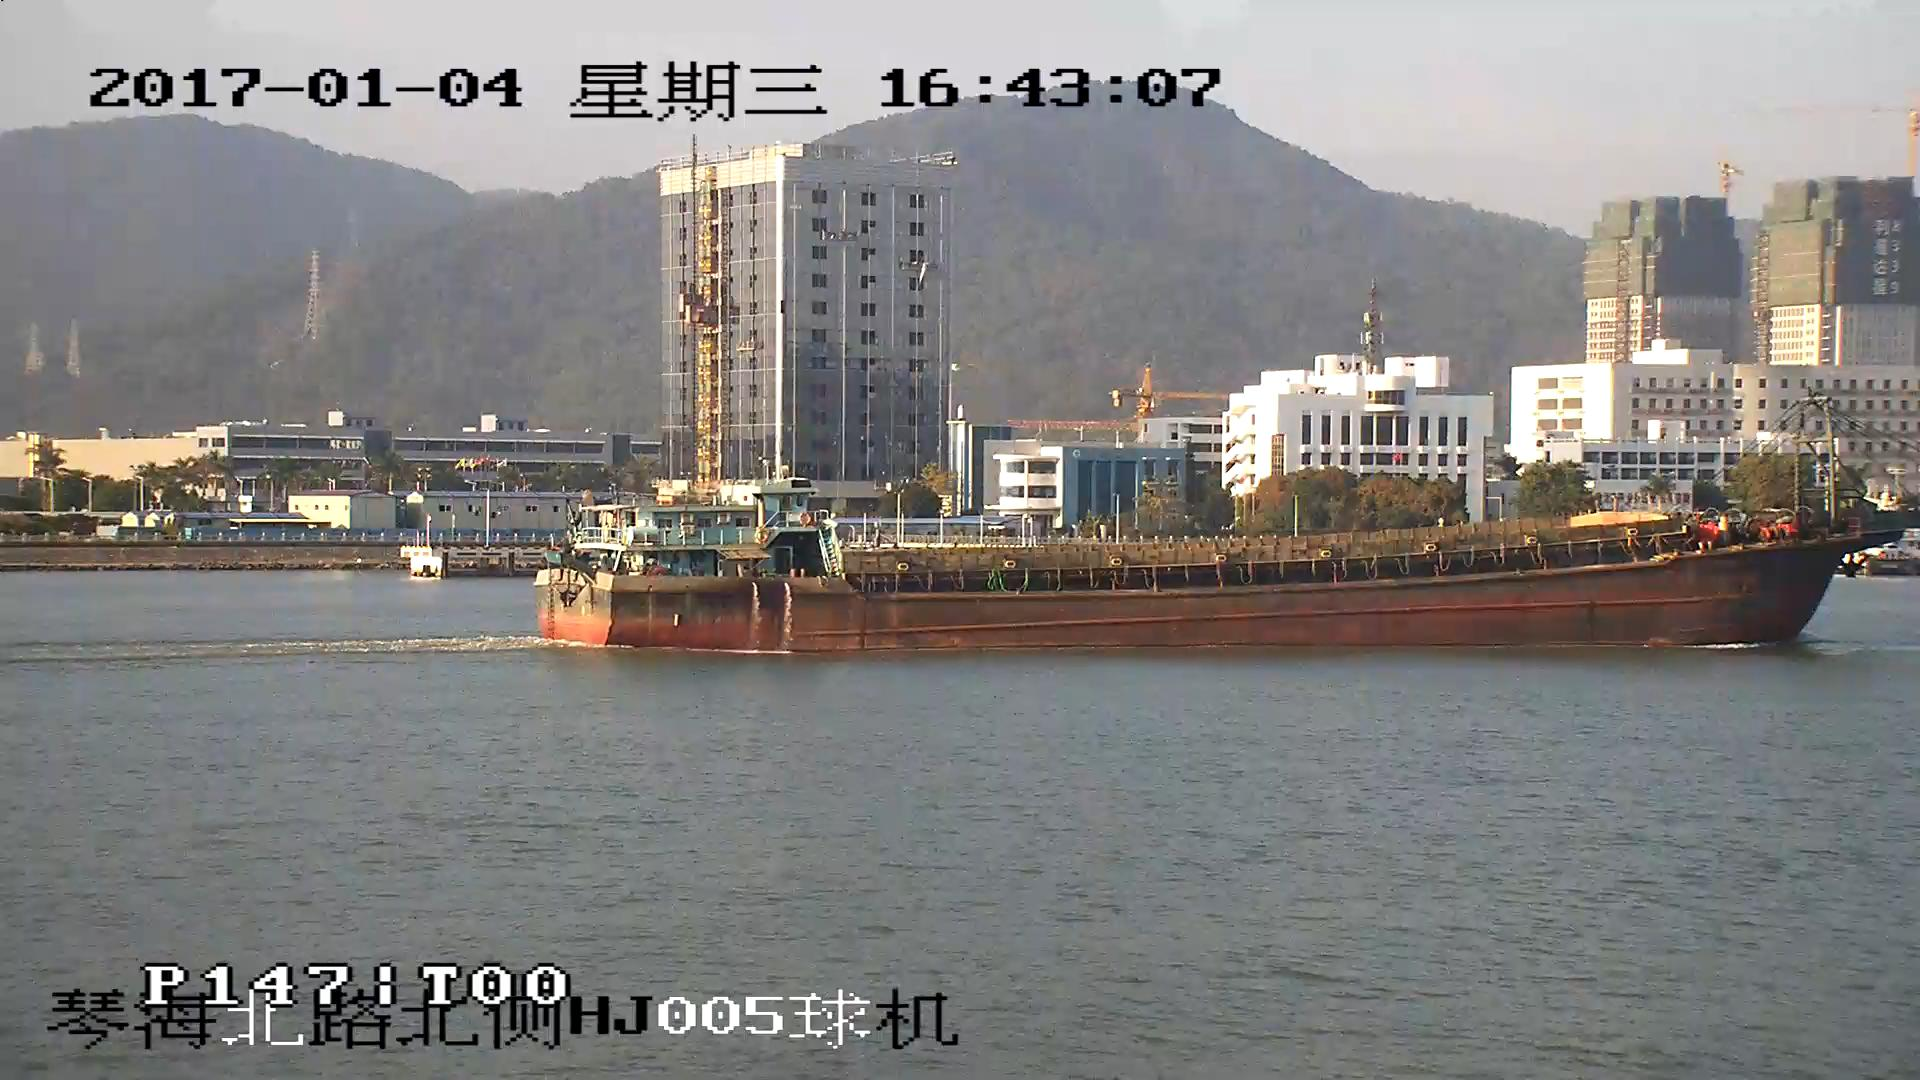bulk cargo carrier: (539, 399, 1920, 650)
